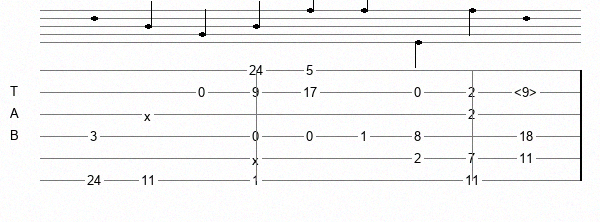0: (198, 85, 209, 99), (252, 129, 263, 143), (306, 129, 317, 143), (414, 85, 425, 99)
1: (252, 173, 263, 187), (360, 129, 371, 143)
11: (141, 173, 159, 187), (465, 173, 483, 187), (519, 151, 537, 165)
17: (303, 85, 321, 99)
18: (519, 129, 537, 143)
2: (414, 151, 425, 165), (468, 85, 479, 99), (468, 107, 479, 121)
24: (87, 173, 105, 187), (249, 63, 267, 77)
3: (90, 129, 101, 143)
5: (306, 63, 317, 77)
7: (468, 151, 479, 165)
8: (414, 129, 425, 143)
9: (252, 85, 263, 99)
harmonic: (514, 85, 541, 99)
x: (144, 109, 155, 120), (252, 153, 263, 164)
